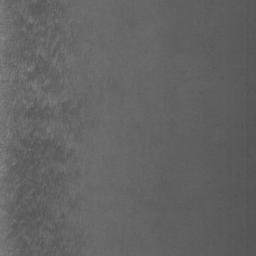Silk spot: (0, 0, 96, 256)
